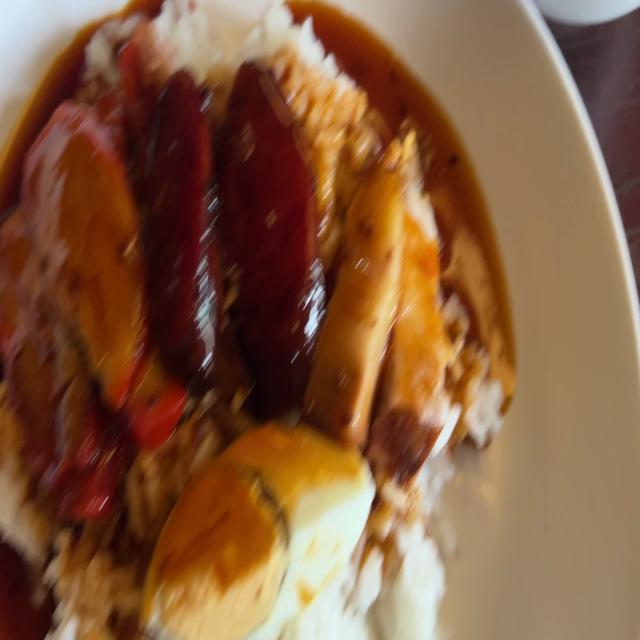red_pork_and_crispy_pork: (155, 438, 362, 632)
stir_fried_basil: (144, 84, 316, 368), (231, 82, 320, 380), (142, 69, 221, 354)
